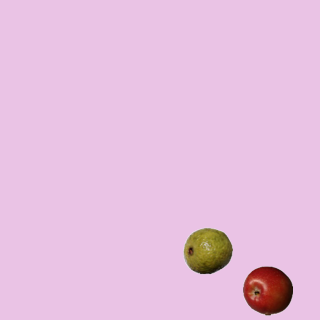Apple Braeburn: (242, 265, 292, 315)
Guava: (182, 225, 232, 275)
